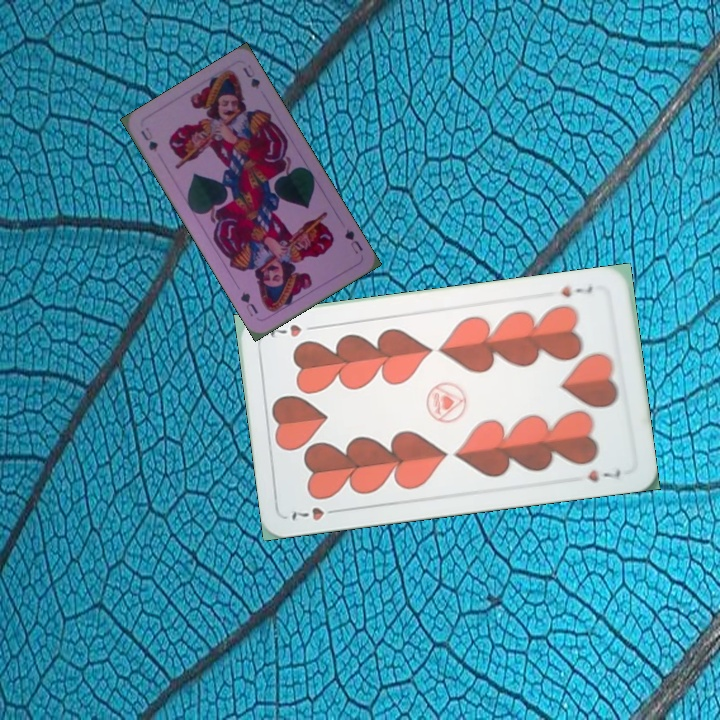GU: (340, 225, 366, 257), (136, 123, 161, 154)
H7: (286, 503, 344, 523), (557, 282, 595, 300)
